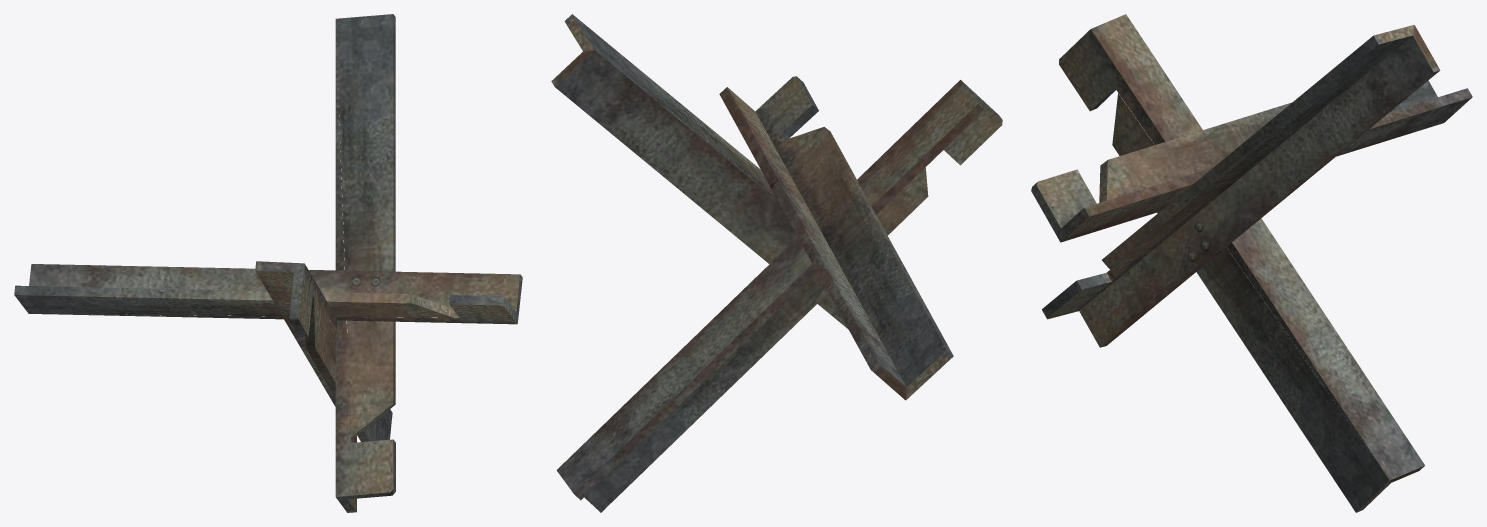
The model's file is caen_barbedwire_1.glb.
The picture shows the model from 3 angles, left to right: view 1: azimuth 30°, elevation 25°; view 2: azimuth 150°, elevation 25°; view 3: azimuth 270°, elevation 25°; orthographic projection. The views are drawn at different scales.
Bounding box in the file's own units: 42.29 × 49.1 × 40.48.
1 material, 1 textured.
